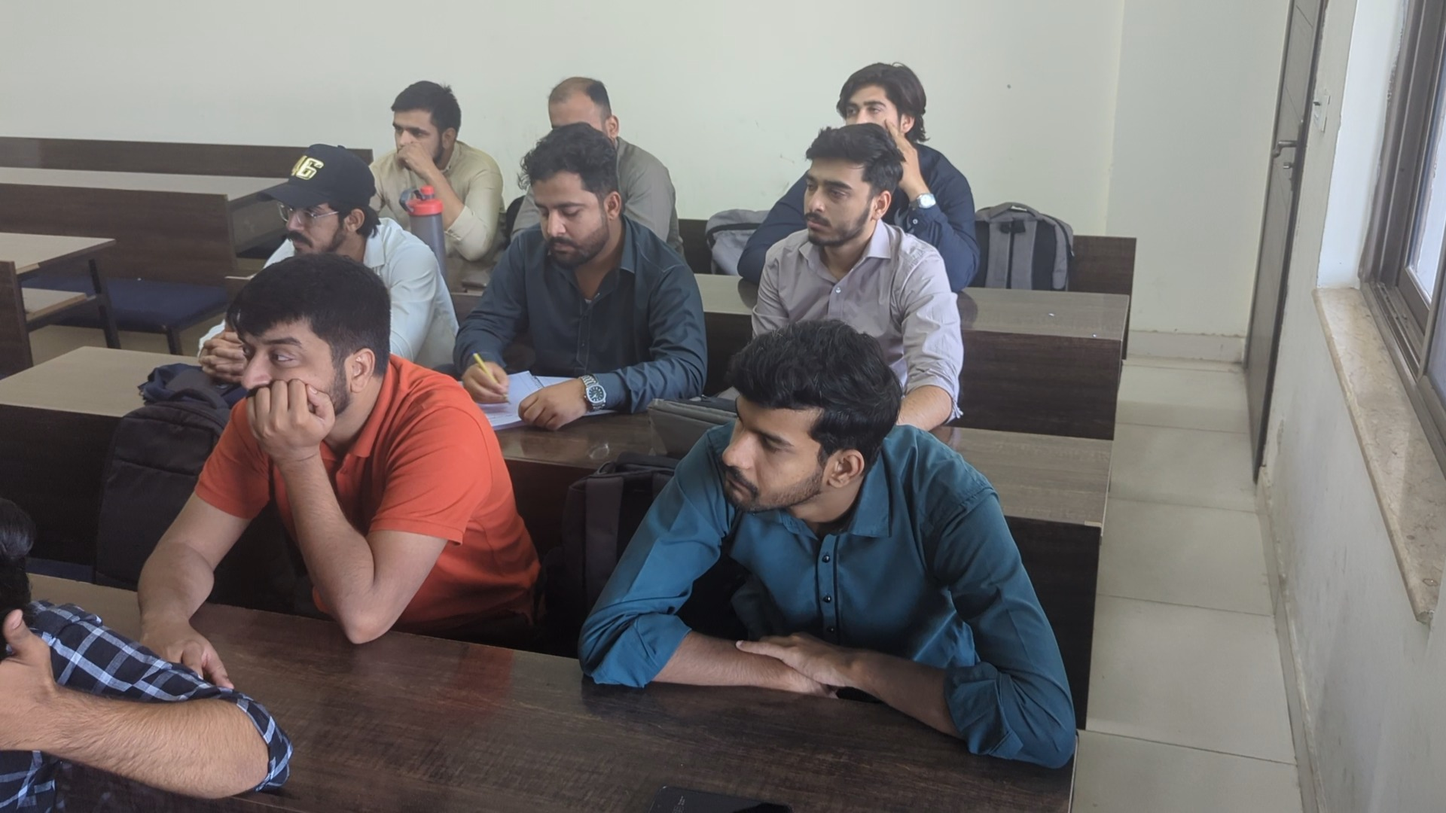look_forward: (720, 325, 906, 574), (215, 282, 379, 517), (249, 119, 379, 279), (771, 129, 894, 277), (373, 81, 470, 224), (842, 58, 927, 139)
sleep: (548, 54, 613, 134)
write: (474, 147, 675, 427)
